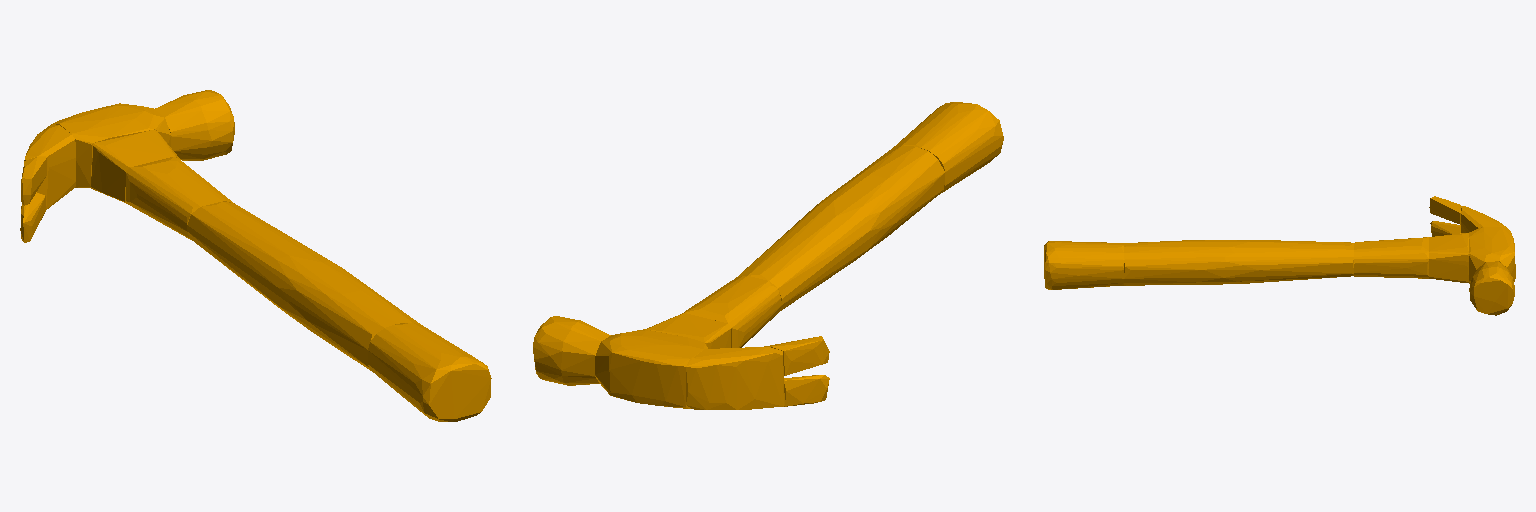
URDF robot description (object):
<?xml version="1.0"?>
<robot name="object">
  <link name="object">
    <visual>
      <origin xyz="0 0 0"/>
      <geometry>
        <mesh filename="hammer_decomp.obj" scale="1 1 1"/>
      </geometry>
    </visual>
    <collision>
      <origin xyz="0 0 0" rpy="0 0 0"/>
      <geometry>
        <mesh filename="hammer_decomp.obj" scale="1 1 1"/>
        <cylinder radius="0.015" length="0.3"/>
      </geometry>
    </collision>
    <inertial>
	<mass value="0.1"/>
	<inertia ixx="1e-4" ixy="0" ixz="0" iyy="1e-4" iyz="0" izz="1e-4"/>
    </inertial>
  </link>
</robot>

--- What the picture shows (computed from the rendered views, not written in the file) ---
3 views of the same robot in one strip: view 1: azimuth 30°, elevation 25°; view 2: azimuth 150°, elevation 25°; view 3: azimuth 270°, elevation 25° (orthographic).
Robot: object — 1 links, 0 joints (none); root link object; default pose: all joints at 0.
Visible links, largest first — view 1: object; view 2: object; view 3: object.
Boxes of the visible links, x1,y1,x2,y2 form: object: (20,90,491,421); object: (533,102,1003,409); object: (1044,196,1515,315).
Size in the robot's own frame: 0.1316 by 0.3317 by 0.0332 metres.
Meshes: 1 distinct files referenced, 1 mesh visuals loaded (1 OBJ).